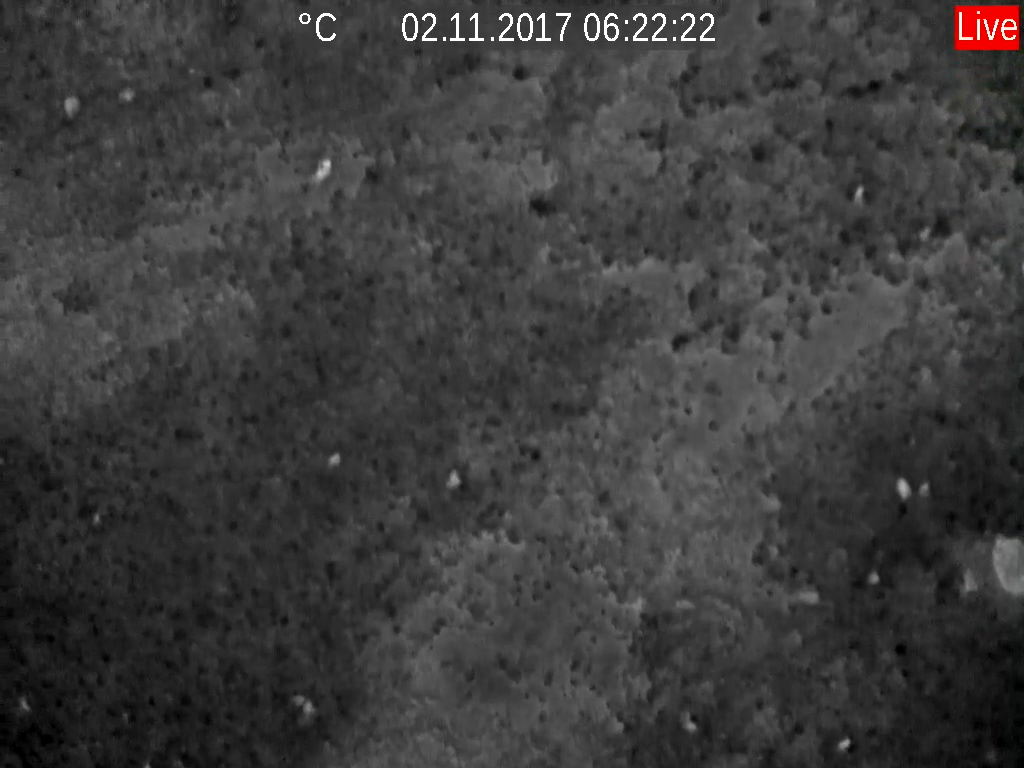warren: (309, 156, 339, 186), (850, 184, 869, 208)
